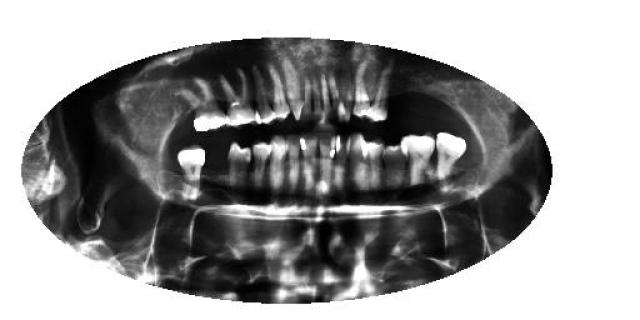Fillings: (180, 76, 226, 132), (219, 68, 256, 130)
